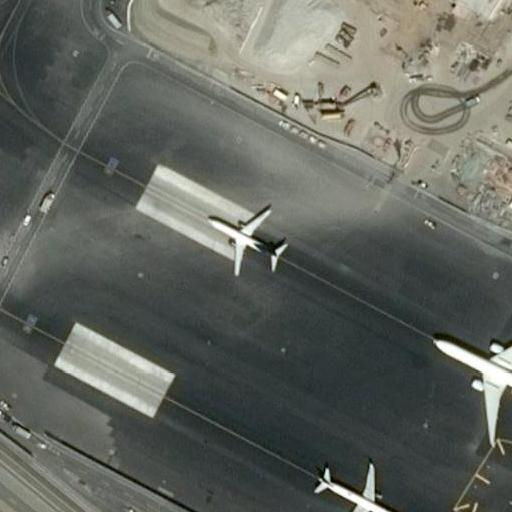Aircraft: (430, 316, 512, 444), (208, 206, 289, 275), (312, 460, 402, 512)
